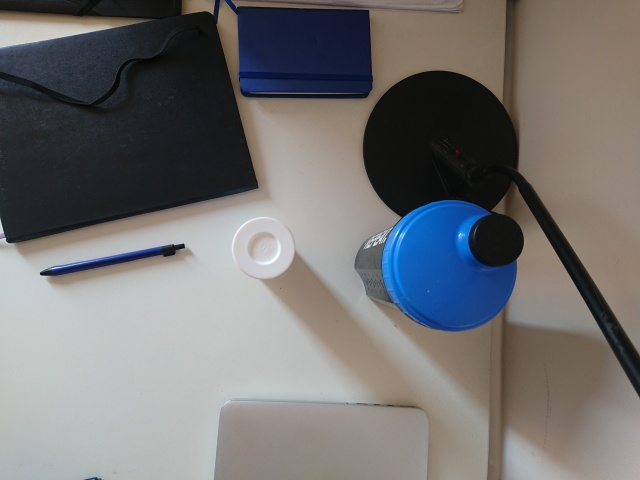Solana Pag Fine Sea Salt 250g: (229, 215, 298, 283)
